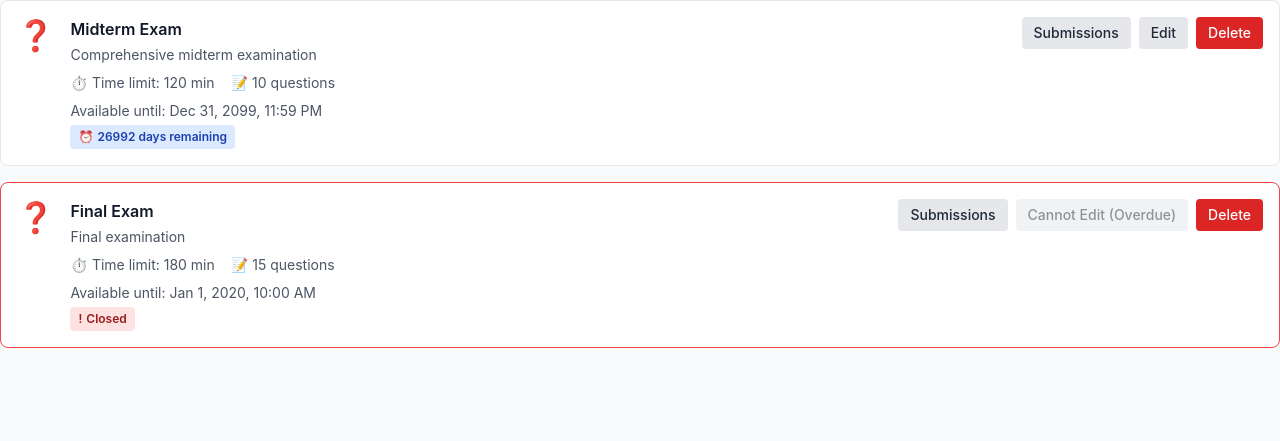
Test case: QuizList › Teacher Actions › should show error message when delete fails
The width and height of the screenshot is (1280, 441).
Click the button "Delete" in the row of "Comprehensive midterm examination": [1230, 33] box [1196,17,1263,49]
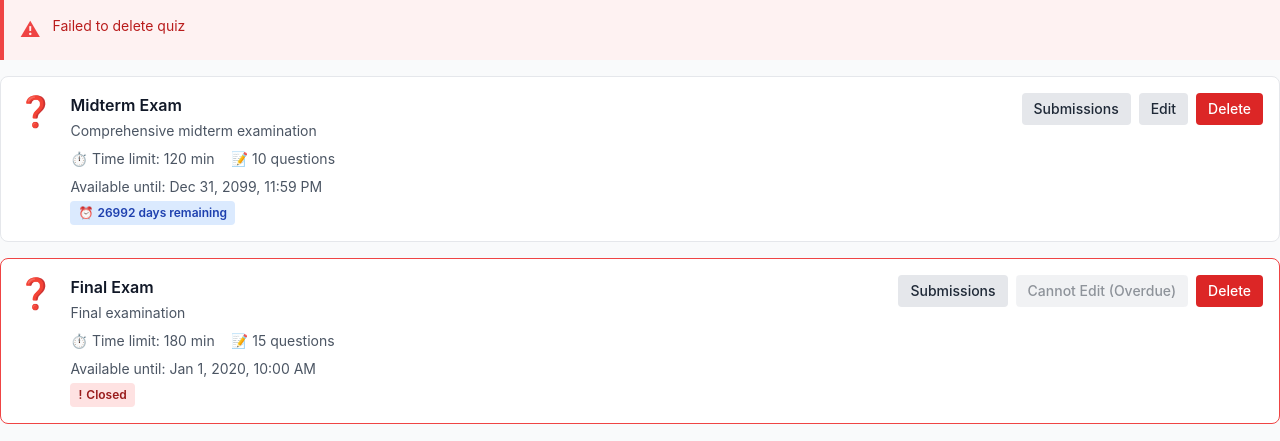
Now the text "Failed to delete quiz" is shown, box [52,16,185,36]
